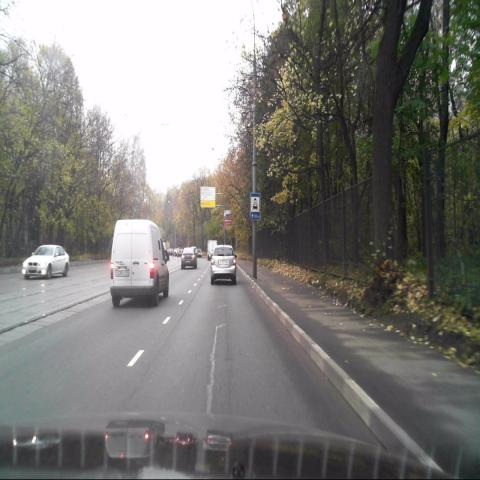7_5: (250, 193, 260, 220)
